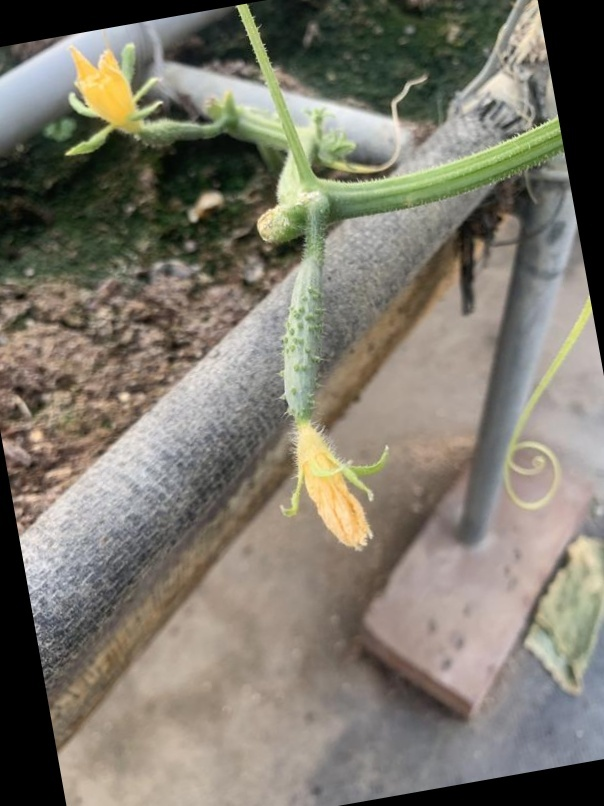bear: (252, 230, 384, 555), (66, 36, 206, 162)
